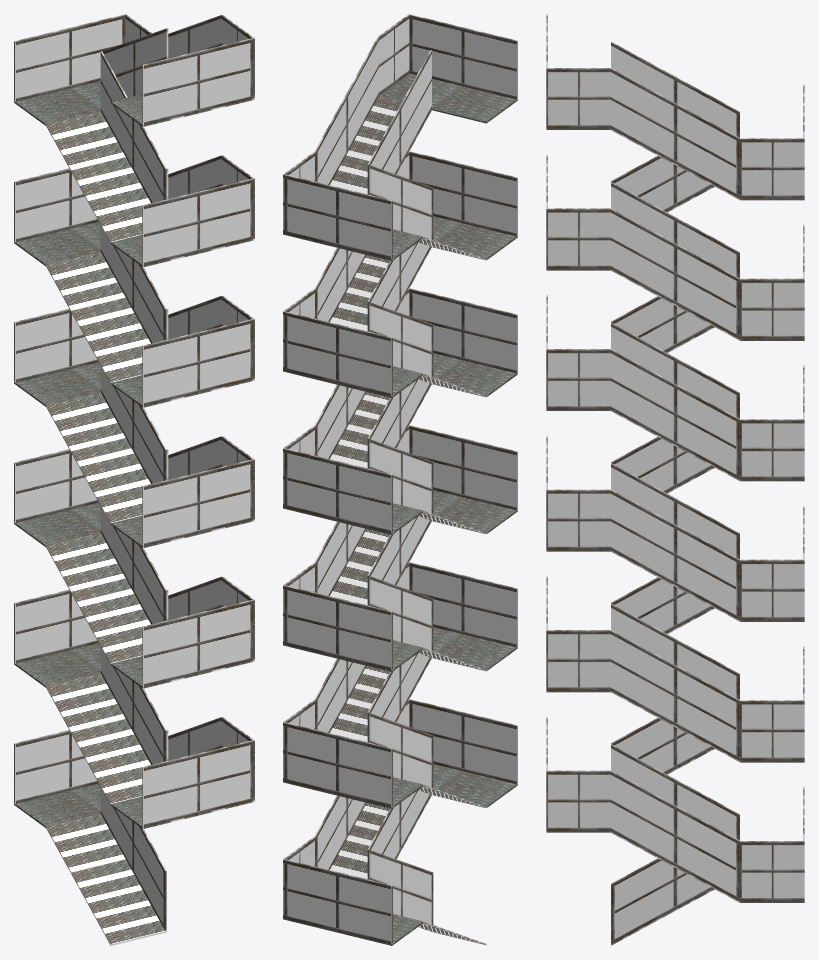
File: stairs.glb
The picture shows the model from 3 angles, left to right: view 1: azimuth 30°, elevation 25°; view 2: azimuth 150°, elevation 25°; view 3: azimuth 270°, elevation 25°; orthographic projection. The views are drawn at different scales.
Visible parts, largest first — view 1: escalera; view 2: escalera; view 3: escalera.
Part boxes in pixels (x1,y1,x2,y2): escalera: (14,14,254,945); escalera: (283,14,517,945); escalera: (546,14,804,945).
Size of the model in its own units: 2 by 15.45 by 4.
Materials: 1 (1 with a texture image).
